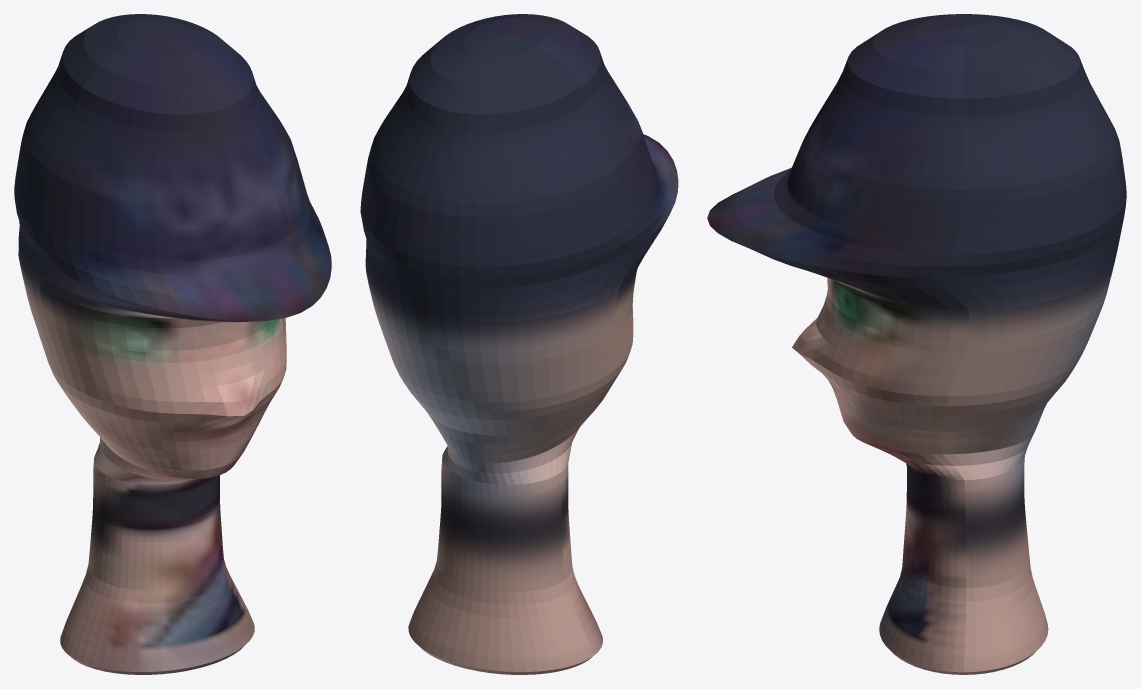
Rendered from subject_head.obj.
The picture shows the model from 3 angles, left to right: view 1: azimuth 30°, elevation 25°; view 2: azimuth 150°, elevation 25°; view 3: azimuth 270°, elevation 25°; orthographic projection.
Parts seen in each view (by area): view 1: subject_head; view 2: subject_head; view 3: subject_head.
Boxes of the visible parts, x1,y1,x2,y2 form: subject_head: (14, 14, 331, 674); subject_head: (360, 14, 678, 674); subject_head: (707, 14, 1126, 674).
Size of the model in its own units: 0.1606 by 0.3834 by 0.2358.
Materials: 1 (1 with a texture image).
